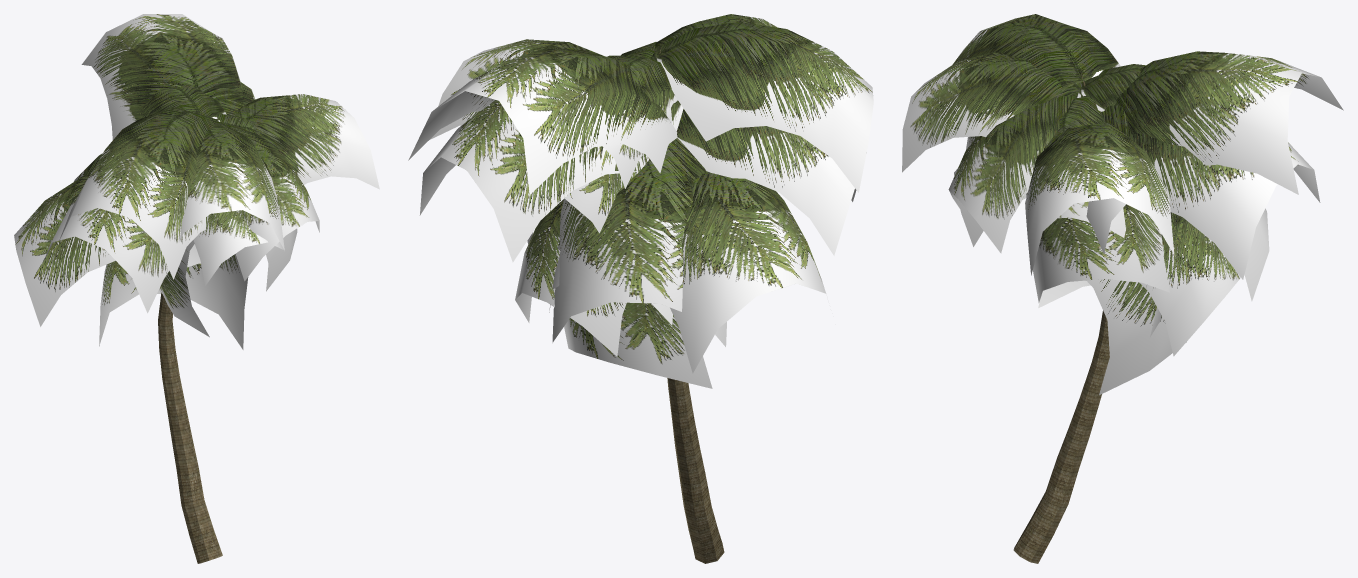
File: palmier.glb
The picture shows the model from 3 angles, left to right: view 1: azimuth 30°, elevation 25°; view 2: azimuth 150°, elevation 25°; view 3: azimuth 270°, elevation 25°; orthographic projection. The views are drawn at different scales.
Visible parts, largest first — view 1: Palmera; view 2: Palmera; view 3: Palmera.
Boxes of the visible parts, x1,y1,x2,y2 form: Palmera: (14,14,379,563); Palmera: (408,14,873,563); Palmera: (902,14,1343,563).
Bounding box in the file's own units: 2.43 × 3.43 × 2.59.
Materials: 1 (1 with a texture image).
